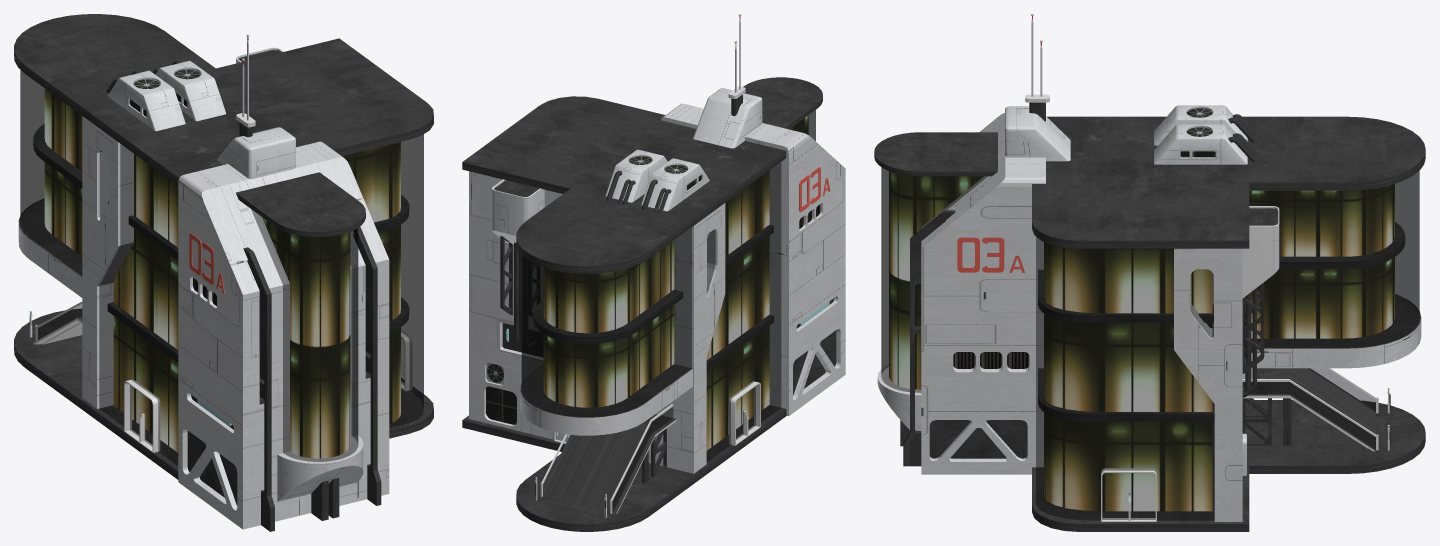
The model's file is industrial_1.glb.
3 renders of one model, left to right at view 1: azimuth 30°, elevation 25°; view 2: azimuth 150°, elevation 25°; view 3: azimuth 270°, elevation 25°, orthographic. The views are drawn at different scales.
Visible parts, largest first — view 1: Object_10, Object_7, Object_2, Object_4, Object_11, Object_5; view 2: Object_7, Object_10, Object_2, Object_4, Object_11, Object_12, Object_6, Object_5; view 3: Object_2, Object_7, Object_4, Object_10, Object_11, Object_12, Object_5.
Boxes of the visible parts, box(x1,y1,x2,y2) form: Object_10: box(18, 34, 389, 529); Object_7: box(14, 14, 433, 531); Object_2: box(20, 70, 423, 465); Object_4: box(44, 89, 400, 458); Object_11: box(29, 47, 412, 452); Object_5: box(189, 233, 224, 293); Object_7: box(462, 77, 836, 531); Object_10: box(469, 14, 845, 473); Object_2: box(521, 110, 815, 512); Object_4: box(543, 115, 808, 450); Object_11: box(492, 86, 760, 517); Object_12: box(486, 175, 820, 424); Object_6: box(486, 156, 687, 384); Object_5: box(799, 167, 830, 212); Object_2: box(881, 167, 1419, 520); Object_7: box(874, 102, 1425, 531); Object_4: box(889, 171, 1394, 511); Object_10: box(877, 14, 1421, 521); Object_11: box(1025, 94, 1389, 521); Object_12: box(953, 151, 1215, 368); Object_5: box(957, 237, 1025, 272).
Bounding box in the file's own units: 7.78 × 12.18 × 14.43.
11 materials, 6 textured.
